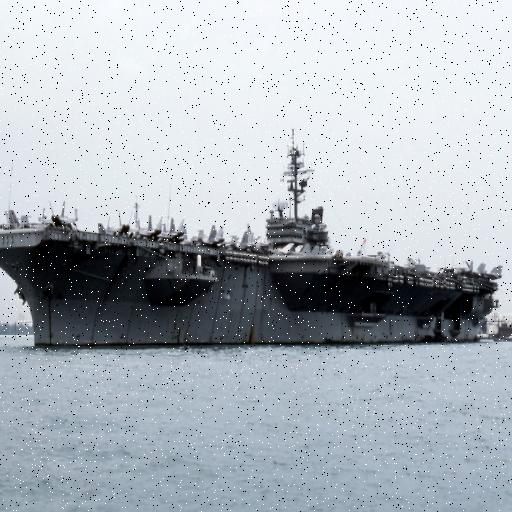Portanaves: (1, 121, 505, 354)
